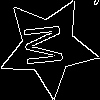M: (23, 21, 73, 68)
